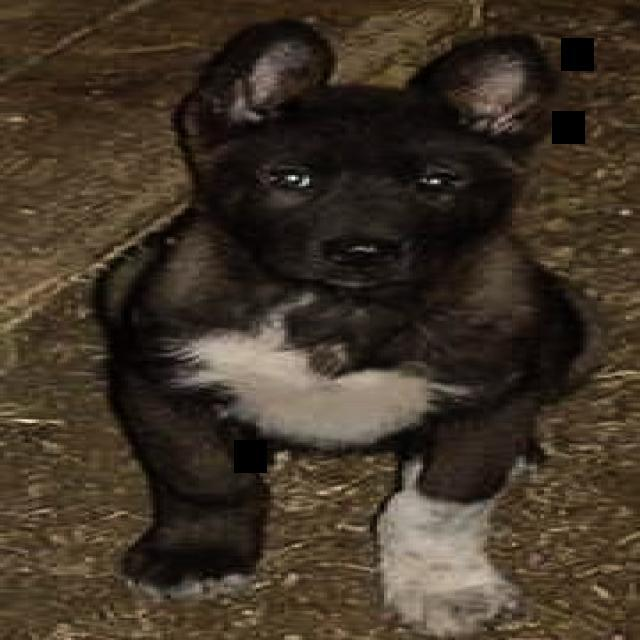puppy-dog: (92, 17, 593, 636)
